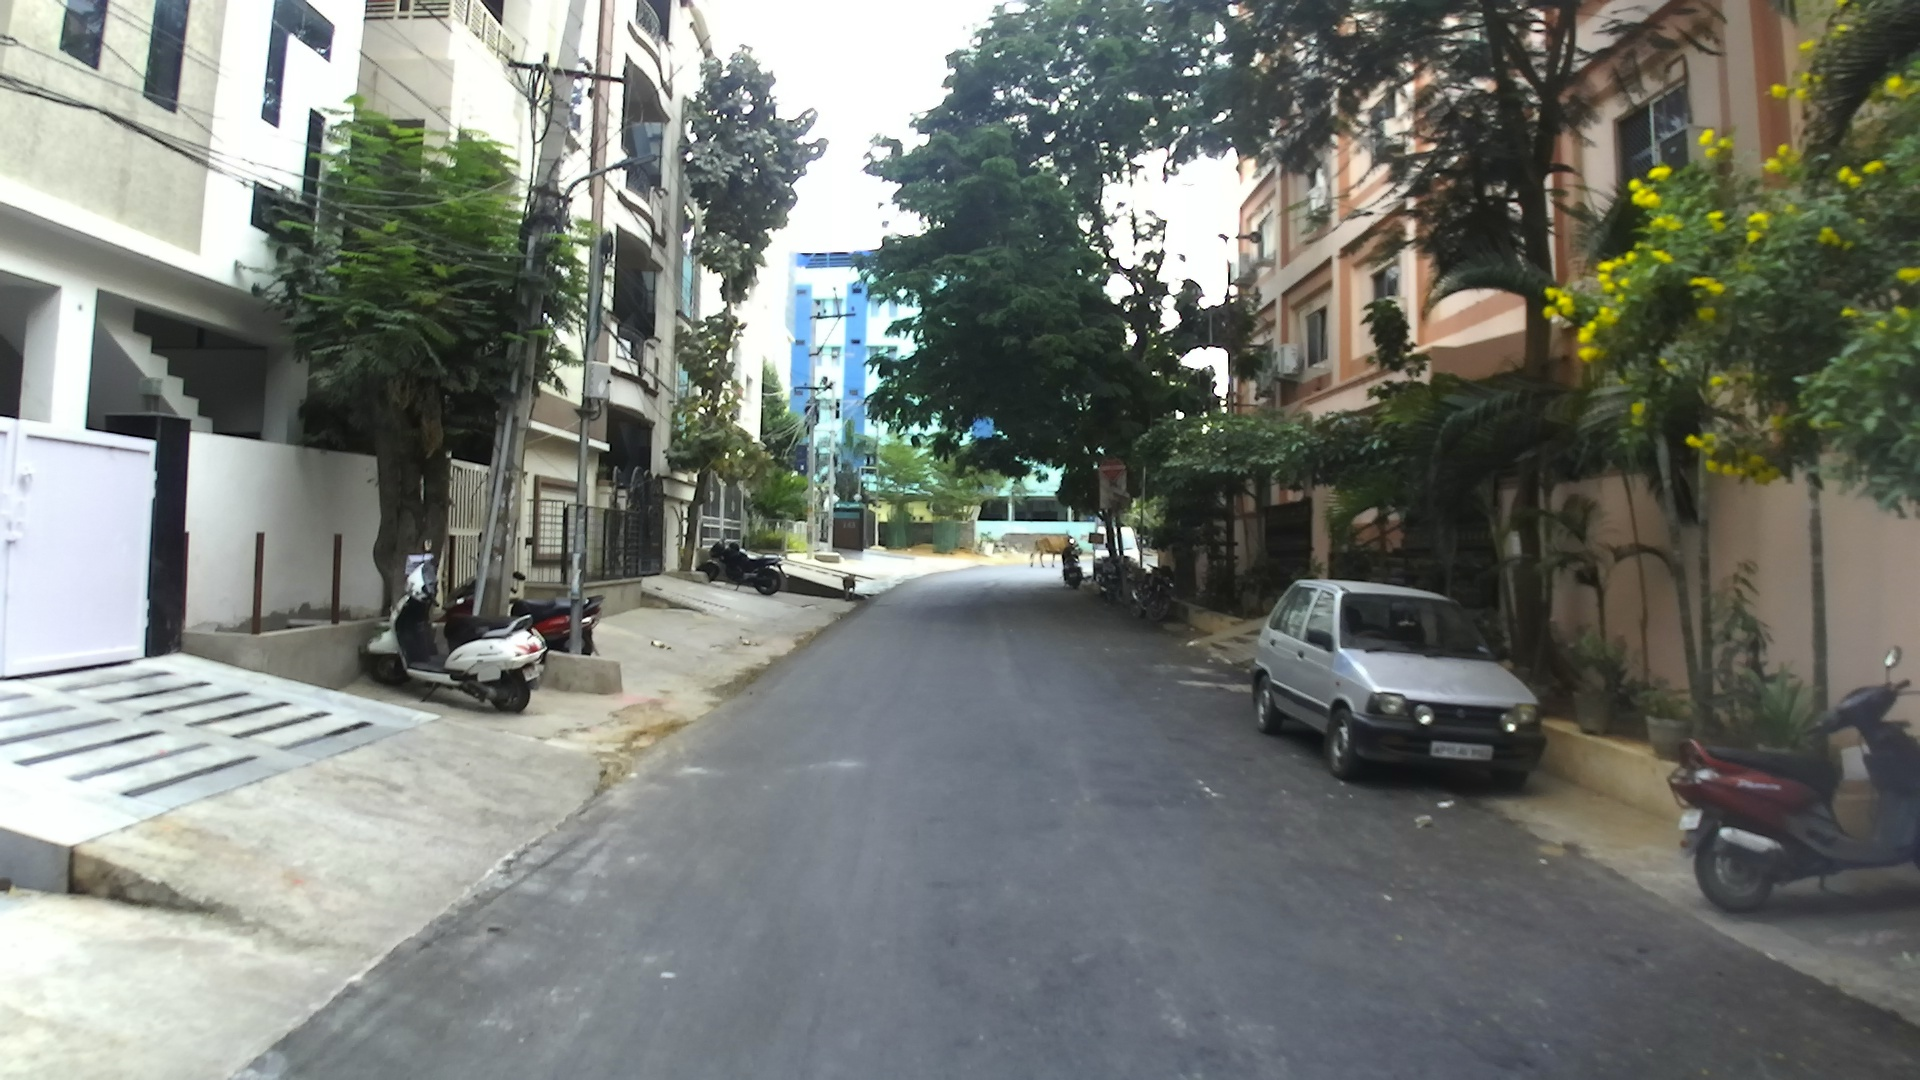vehicle: (1664, 650, 1919, 915), (1249, 575, 1547, 791)
